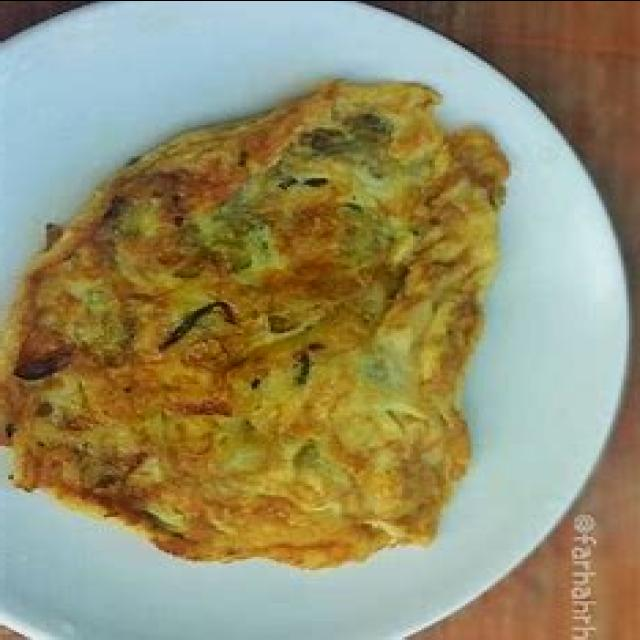telur dadar: (0, 71, 514, 574)
